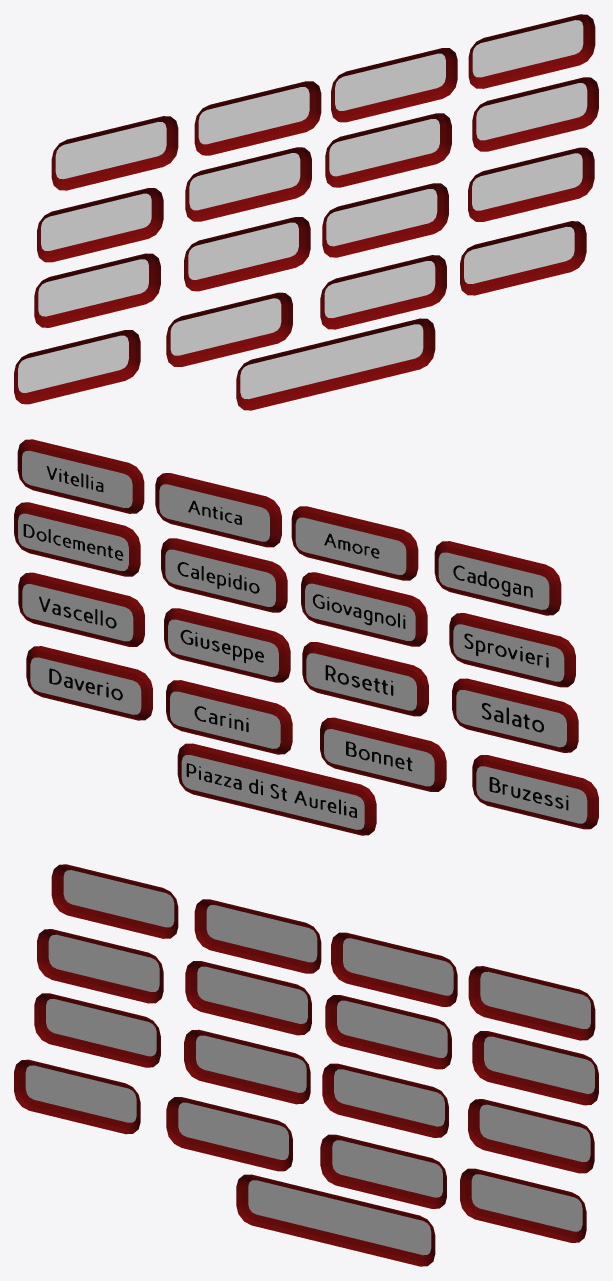
Rendered from StreetNames.fbx.
3 renders of one model, top to bottom at view 1: azimuth 30°, elevation 25°; view 2: azimuth 150°, elevation 25°; view 3: azimuth 330°, elevation 25°, orthographic.
Parts seen in each view (by area): view 1: Street17, Street01, Street04, Street03, Street10, Street12, Street06, Street13, Street05, Street08, Street14, Street15 (+5 smaller); view 2: Street17, Street01, Street04, Street03, Street10, Street06, Street12, Street13, Street05, Street16, Street07, Street14 (+5 smaller); view 3: Street17, Street04, Street01, Street03, Street16, Street11, Street14, Street02, Street06, Street09, Street10, Street12 (+5 smaller).
Boxes of the visible parts, x1,y1,x2,y2 form: Street17: [236, 318, 435, 410]; Street01: [468, 14, 595, 88]; Street04: [51, 116, 178, 190]; Street03: [194, 81, 321, 155]; Street10: [322, 183, 448, 257]; Street12: [34, 253, 160, 327]; Street06: [325, 113, 451, 187]; Street13: [460, 221, 586, 295]; Street05: [472, 77, 598, 151]; Street08: [37, 188, 163, 262]; Street14: [320, 255, 446, 329]; Street15: [166, 292, 292, 366]; Street17: [177, 743, 376, 835]; Street01: [17, 439, 144, 513]; Street04: [434, 541, 561, 615]; Street03: [291, 506, 418, 580]; Street10: [164, 608, 290, 682]; Street06: [161, 538, 287, 612]; Street12: [452, 678, 578, 752]; Street13: [26, 646, 152, 720]; Street05: [14, 502, 140, 576]; Street16: [472, 755, 598, 829]; Street07: [301, 572, 427, 646]; Street14: [166, 680, 292, 754]; Street17: [236, 1174, 435, 1266]; Street04: [51, 864, 178, 938]; Street01: [468, 966, 595, 1040]; Street03: [194, 899, 321, 973]; Street16: [14, 1059, 140, 1134]; Street11: [184, 1029, 310, 1104]; Street14: [320, 1134, 446, 1208]; Street02: [331, 932, 457, 1006]; Street06: [325, 995, 451, 1069]; Street09: [468, 1099, 594, 1173]; Street10: [322, 1063, 448, 1137]; Street12: [34, 993, 160, 1067].
Size of the model in its own units: 514 by 265 by 6.26.
